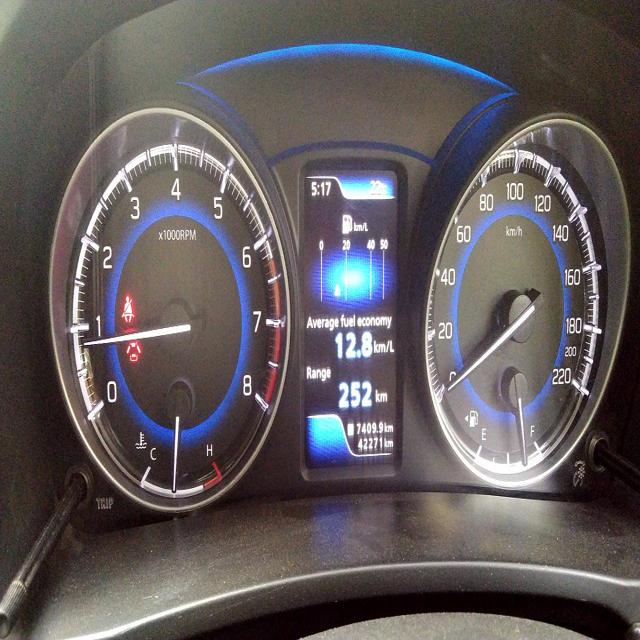odometer: (356, 434, 383, 452)
